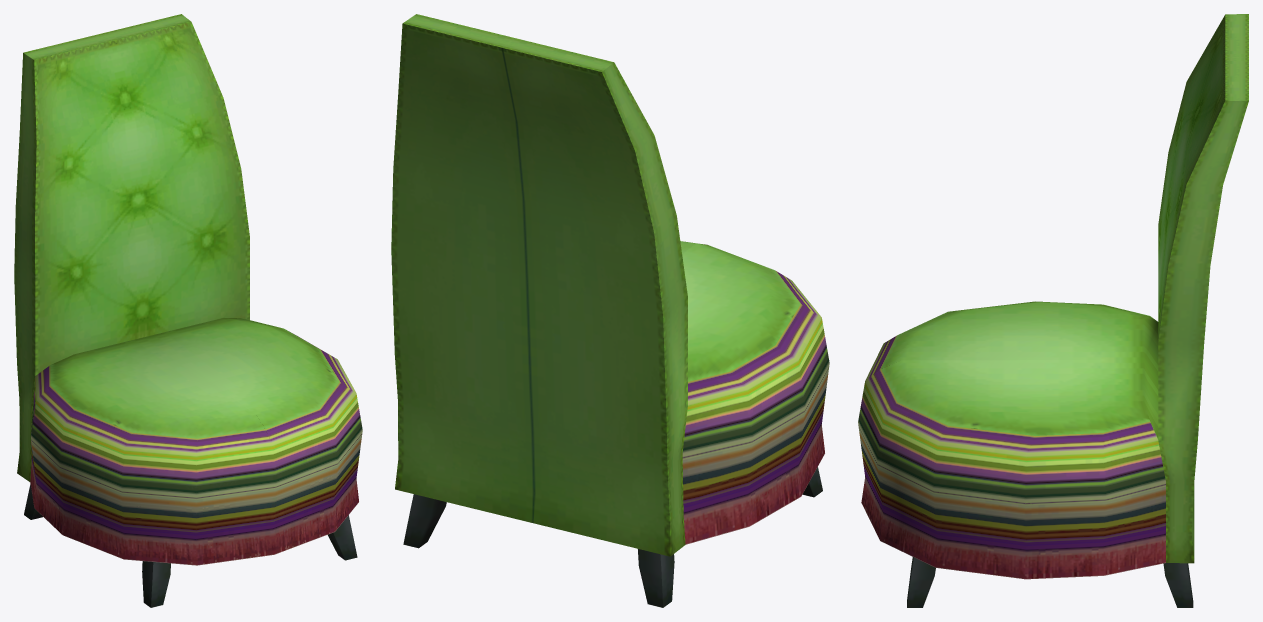
Rendered from furni_0200614_03.FBX.
3 views of the same model, side by side, from view 1: azimuth 30°, elevation 25°; view 2: azimuth 150°, elevation 25°; view 3: azimuth 270°, elevation 25° (orthographic). The views are drawn at different scales.
Visible parts, largest first — view 1: furni_0200614_03; view 2: furni_0200614_03; view 3: furni_0200614_03.
Part boxes in pixels (x1,y1,x2,y2): furni_0200614_03: [14, 14, 362, 607]; furni_0200614_03: [391, 14, 829, 607]; furni_0200614_03: [858, 14, 1248, 607].
Size of the model in its own units: 78.77 by 116 by 83.48.
Materials: 1 (1 with a texture image).
